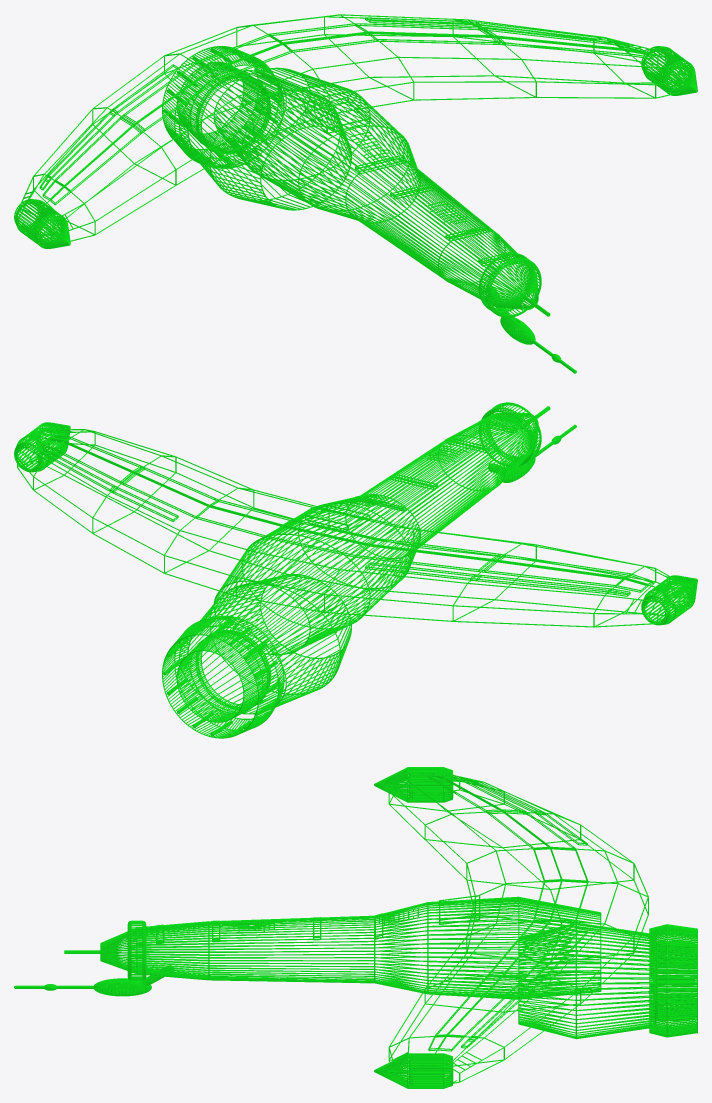
File: fleet-battleship-wireframe.glb
3 renders of one model, top to bottom at view 1: azimuth 30°, elevation 25°; view 2: azimuth 150°, elevation 25°; view 3: azimuth 270°, elevation 25°, orthographic. The views are drawn at different scales.
Parts seen in each view (by area): view 1: chassis technical wire, rear-thruster technical wire, wingtip-directional-thrusters technical wire, antenna-and-field-sensor technical wire; view 2: chassis technical wire, rear-thruster technical wire, wingtip-directional-thrusters technical wire, antenna-and-field-sensor technical wire; view 3: chassis technical wire, rear-thruster technical wire, wingtip-directional-thrusters technical wire, antenna-and-field-sensor technical wire.
Boxes of the visible parts, x1,y1,x2,y2 form: chassis technical wire: [17, 14, 688, 317]; rear-thruster technical wire: [162, 46, 284, 168]; wingtip-directional-thrusters technical wire: [14, 46, 697, 248]; antenna-and-field-sensor technical wire: [489, 287, 576, 373]; chassis technical wire: [17, 402, 692, 714]; rear-thruster technical wire: [162, 615, 284, 738]; wingtip-directional-thrusters technical wire: [14, 422, 697, 625]; antenna-and-field-sensor technical wire: [488, 406, 576, 482]; chassis technical wire: [100, 773, 656, 1084]; rear-thruster technical wire: [649, 924, 697, 1037]; wingtip-directional-thrusters technical wire: [374, 767, 453, 1088]; antenna-and-field-sensor technical wire: [14, 950, 174, 996].
Size of the model in its own units: 4.95 by 1.17 by 4.75.
